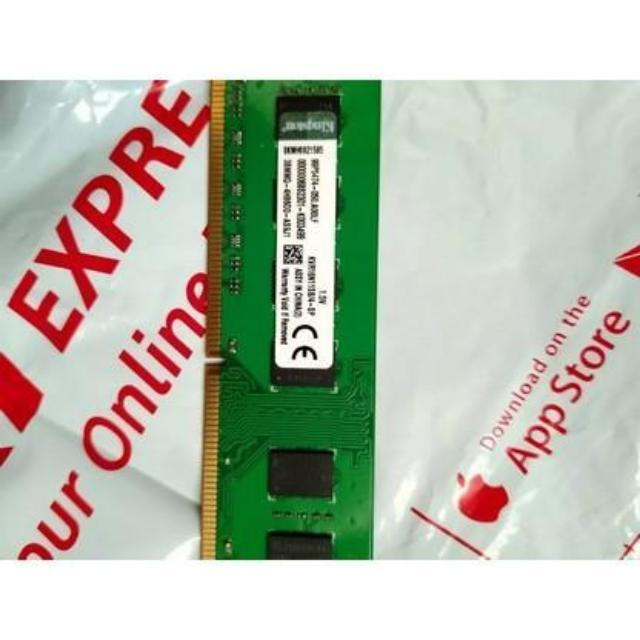RAM: (202, 81, 373, 559)
